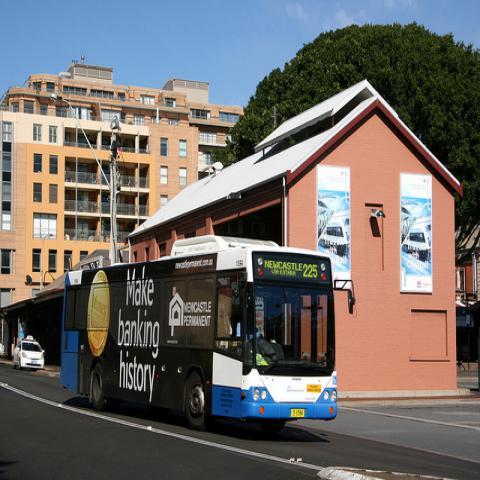bus: (59, 236, 337, 420)
car: (12, 337, 46, 372)
